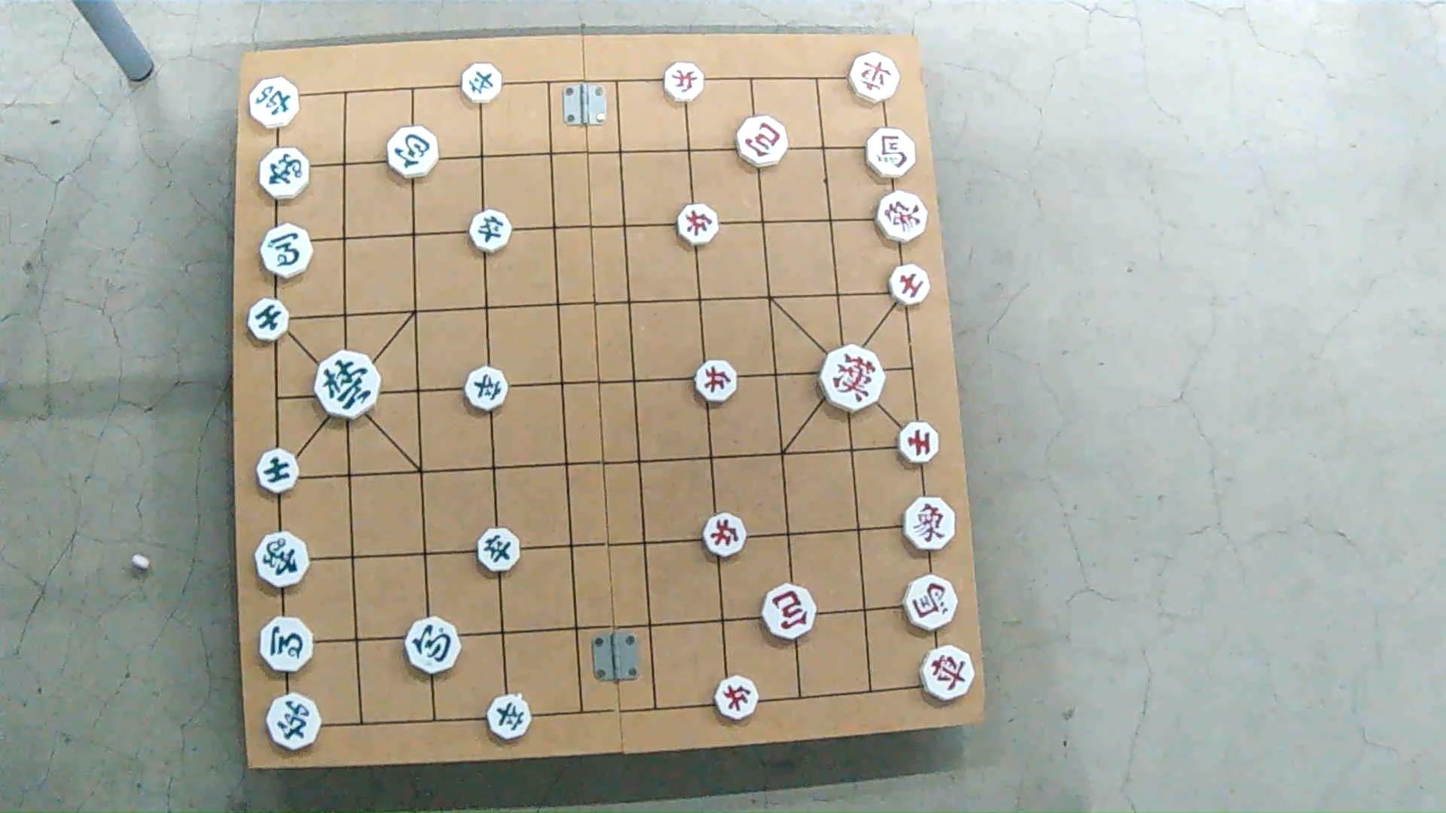cha_green: (266, 694, 322, 747), (251, 79, 300, 125)
cha_red: (923, 647, 974, 703), (849, 53, 901, 102)
jol_green: (490, 693, 532, 740), (476, 529, 520, 571), (469, 212, 512, 254), (465, 369, 508, 408), (460, 65, 502, 104)
jol_red: (703, 515, 748, 557), (714, 677, 758, 718), (694, 361, 739, 401), (679, 206, 721, 245), (664, 65, 705, 102)
ma_green: (257, 617, 313, 670), (259, 227, 313, 277)
ma_red: (901, 577, 956, 629), (865, 129, 916, 178)
po_green: (402, 617, 462, 676), (387, 128, 437, 175)
po_red: (761, 585, 816, 638), (734, 117, 786, 166)
sa_green: (254, 451, 298, 494), (246, 298, 290, 340)
sa_red: (899, 423, 939, 464), (887, 264, 928, 303)
sang_green: (252, 529, 312, 586), (259, 148, 311, 196)
sang_red: (901, 499, 955, 551), (878, 192, 929, 239)
wang_green: (316, 354, 381, 416)
wang_red: (819, 347, 886, 408)
